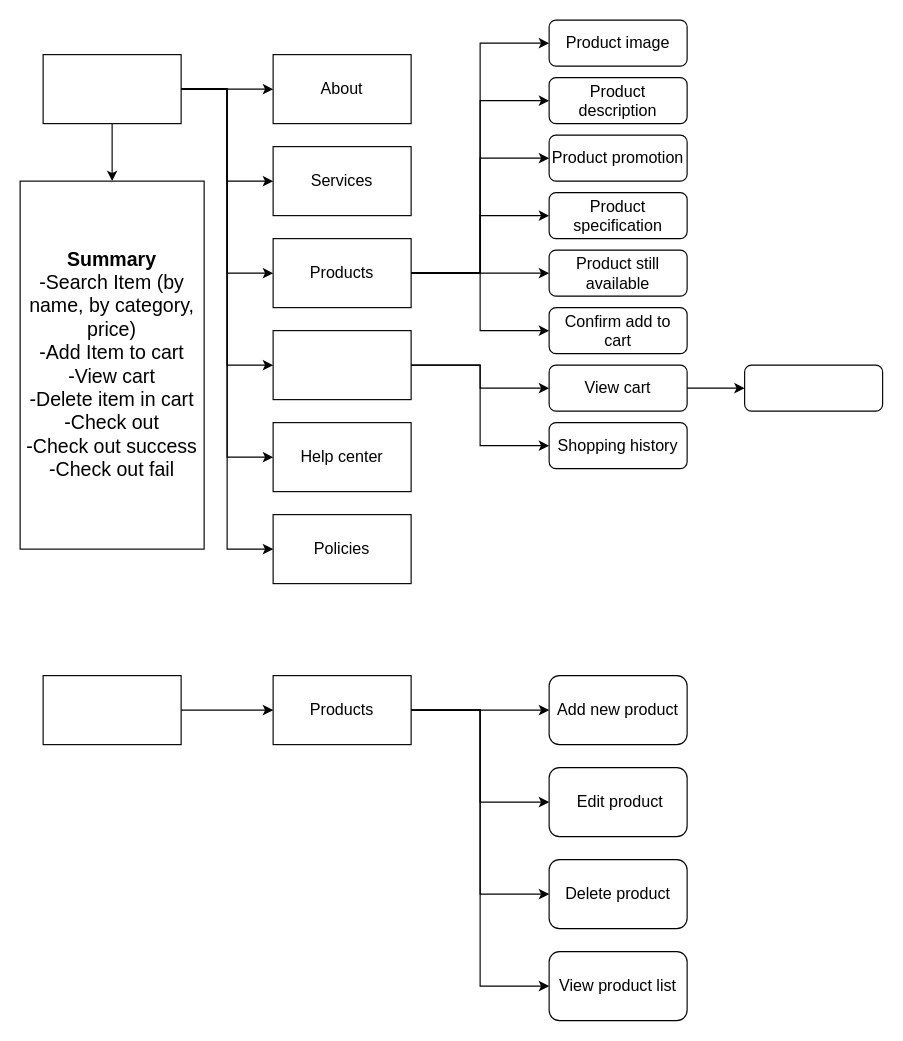
The diagram is 903 pixels wide and 1041 high, and some of its shapes have lost their labels. Each missing label, with the box of its shape:
Admin page: (42, 674, 181, 745)
Cart: (272, 329, 411, 400)
Edit products in cart: (743, 364, 883, 411)
Main Page: (42, 53, 181, 124)
